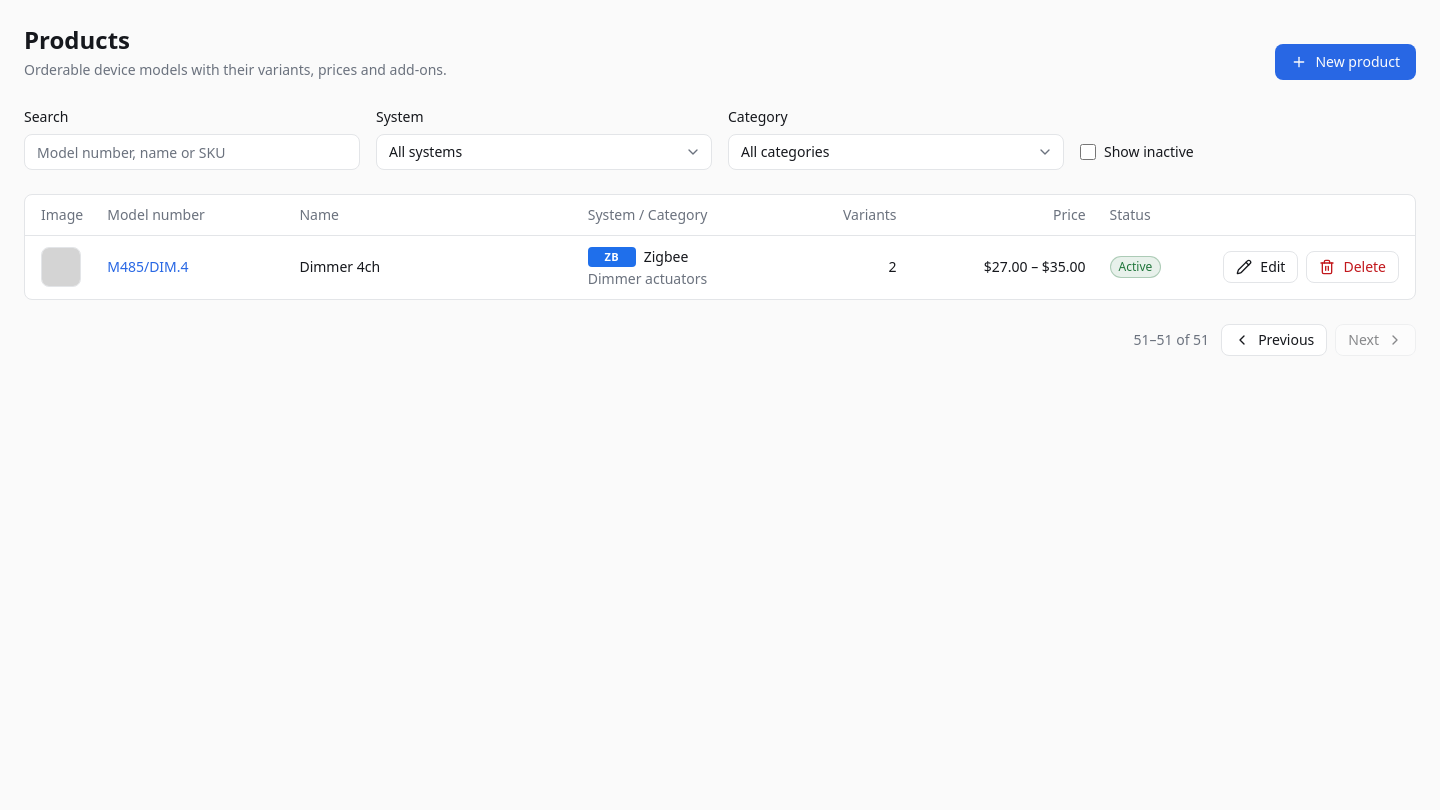
Scenario: ProductsPage › moves to the previous page after deleting the last row of the last page
This screenshot has width=1440, height=810.
Check: the text "51–51 of 51" is shown, box [1134,330,1209,350]
Click the button "Delete" at {"x": 1353, "y": 267}, box [1306,251,1399,283]
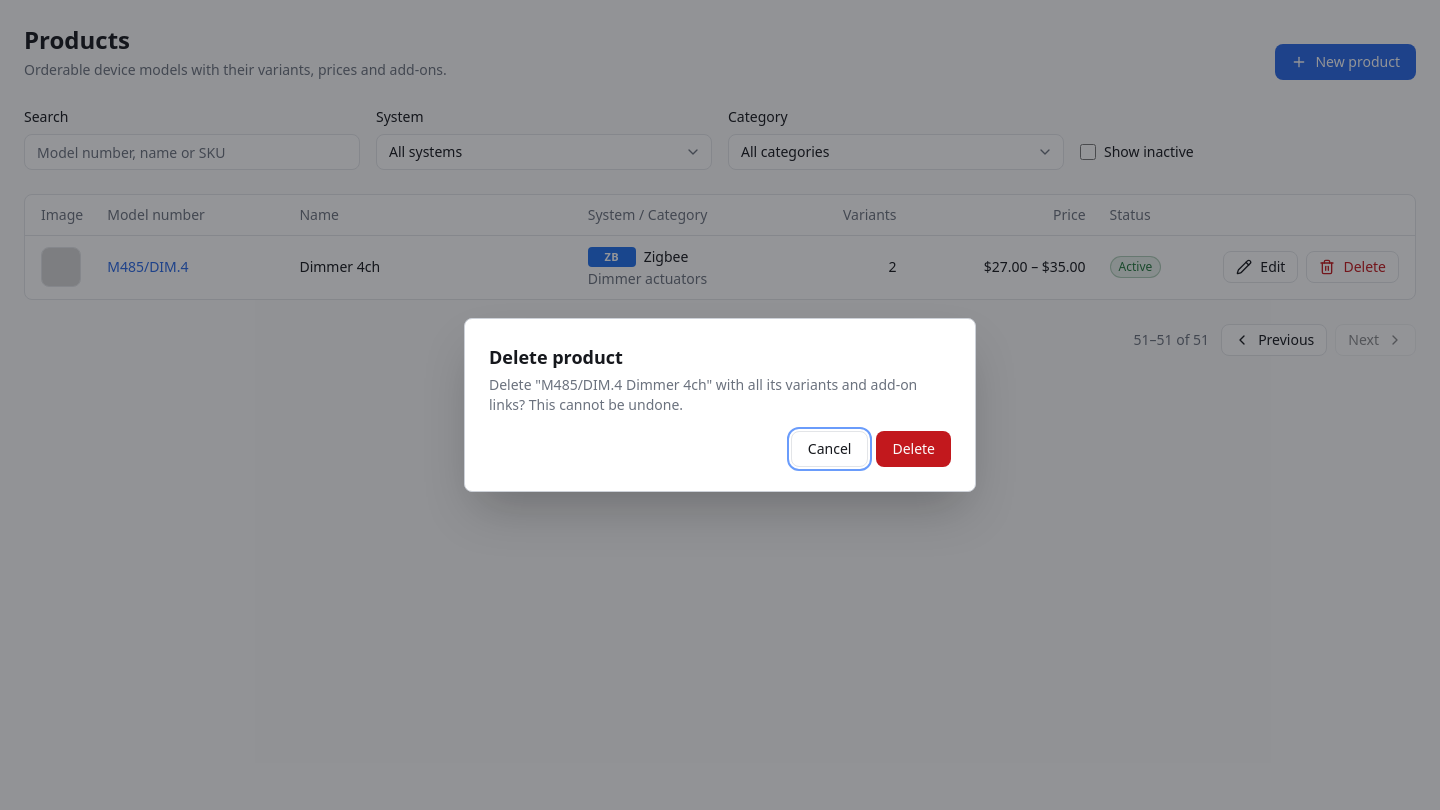
Click the button "Delete" at {"x": 914, "y": 449}, box [876,431,951,467]
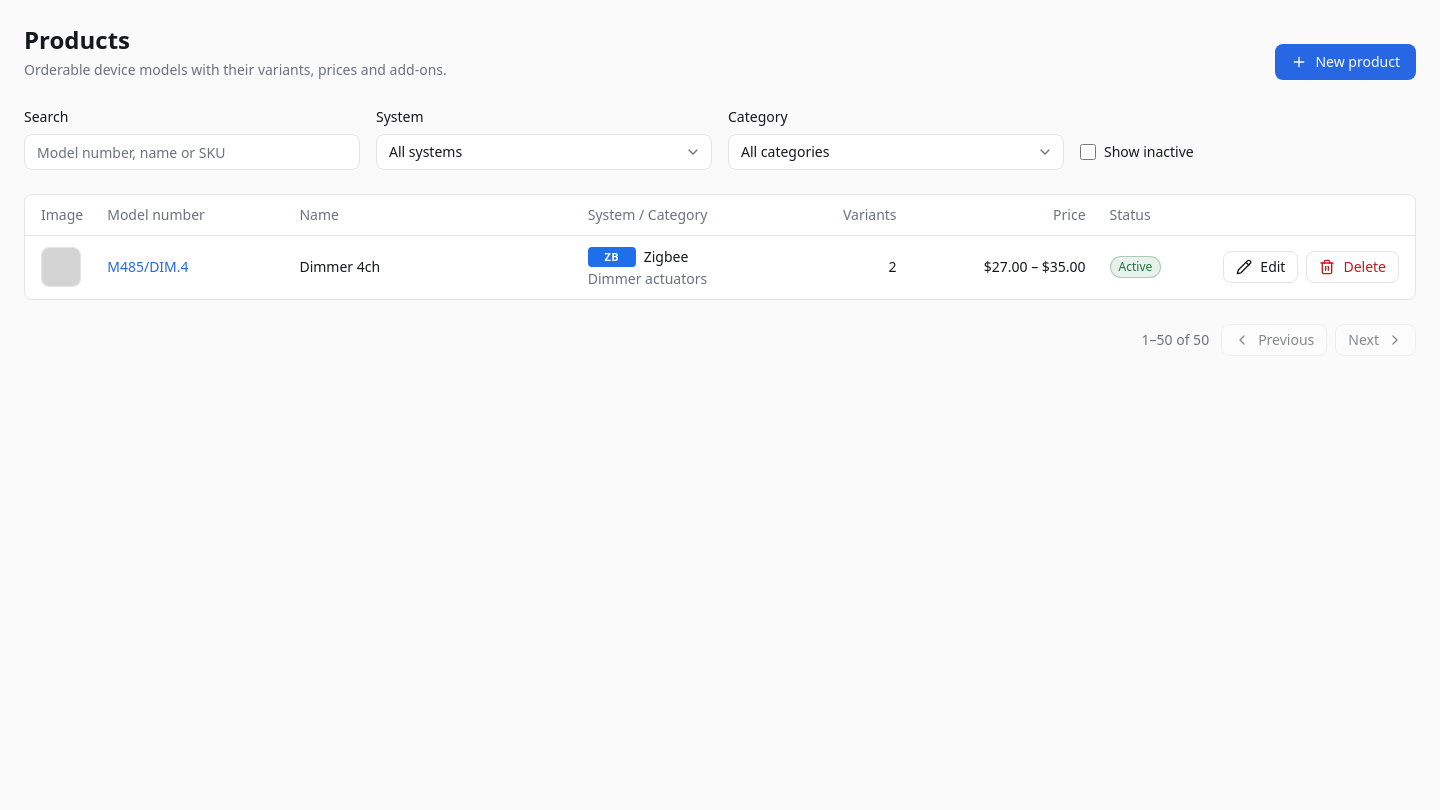
Check: the text "1–50 of 50" is shown, box [1142,330,1209,350]
